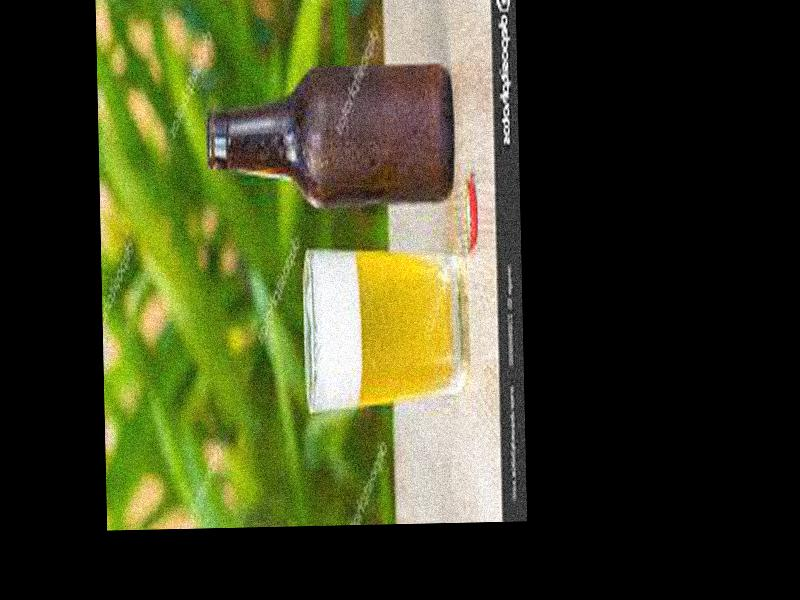Beer: (206, 70, 456, 207)
